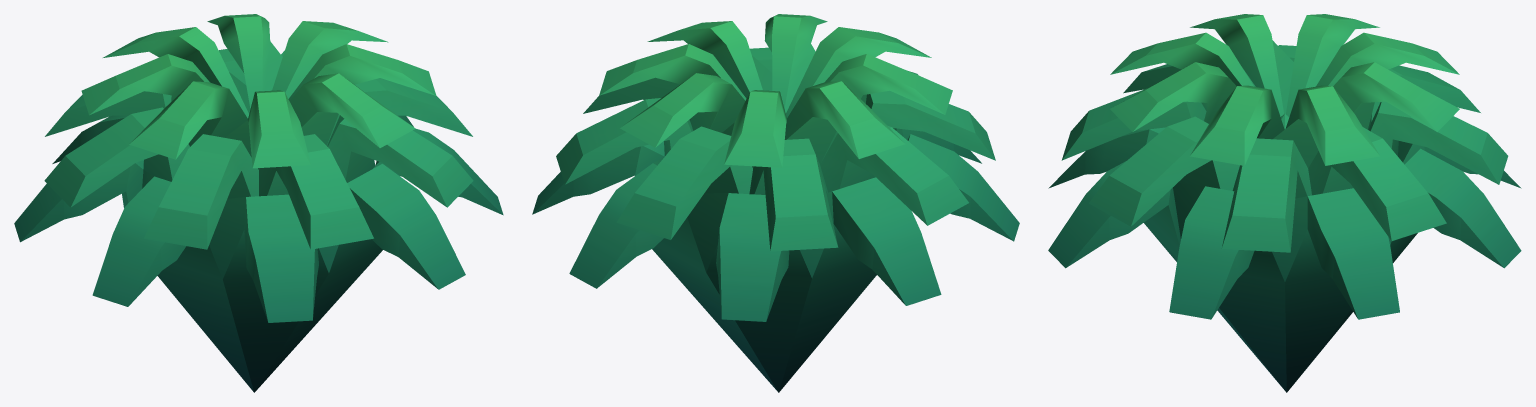
Rendered from plant1.fbx.
3 views of the same model, side by side, from view 1: azimuth 30°, elevation 25°; view 2: azimuth 150°, elevation 25°; view 3: azimuth 270°, elevation 25° (orthographic).
Visible parts, largest first — view 1: plant1; view 2: plant1; view 3: plant1.
Boxes of the visible parts, x1=… form: plant1: x1=14, y1=14, x2=503, y2=392; plant1: x1=532, y1=14, x2=1019, y2=392; plant1: x1=1048, y1=14, x2=1521, y2=392.
Size of the model in its own units: 0.0141 by 0.0112 by 0.0141.
1 material, 1 textured.
